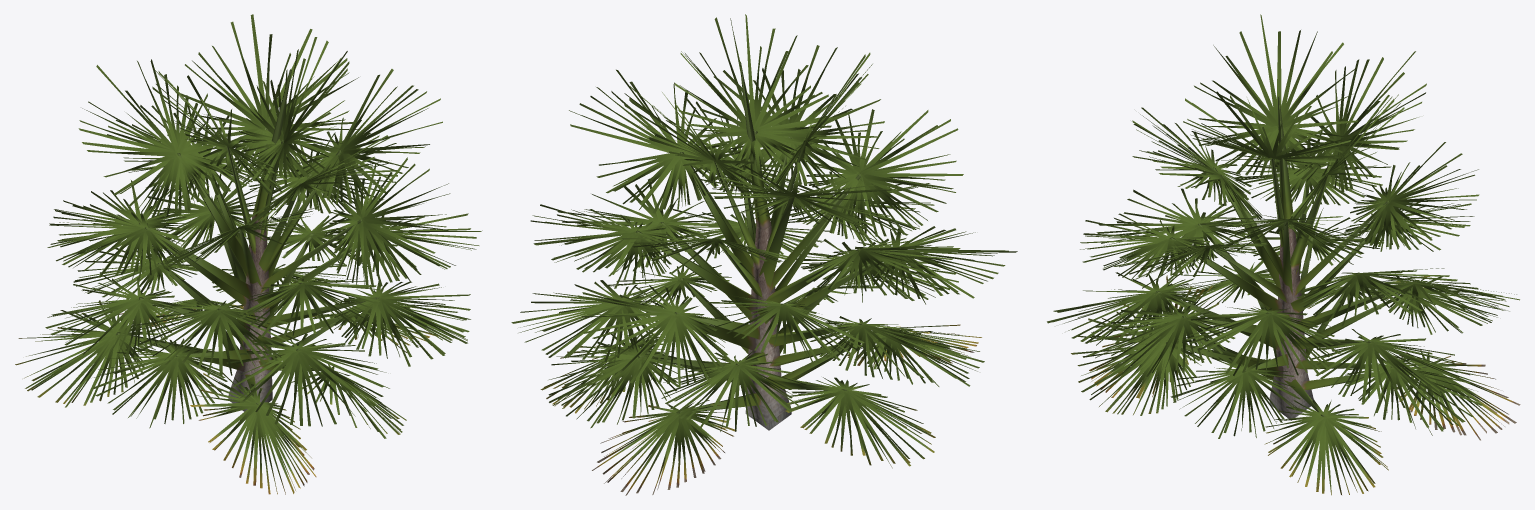
File: Washingtonia filifera HD_Curved mat 0_LOD4.fbx
The picture shows the model from 3 angles, left to right: view 1: azimuth 30°, elevation 25°; view 2: azimuth 150°, elevation 25°; view 3: azimuth 270°, elevation 25°; orthographic projection. The views are drawn at different scales.
Visible parts, largest first — view 1: Washingtonia_filifera_HD; view 2: Washingtonia_filifera_HD; view 3: Washingtonia_filifera_HD.
Part boxes in pixels (box(x1,y1,x2,y2)): Washingtonia_filifera_HD: box(15, 14, 482, 494); Washingtonia_filifera_HD: box(511, 14, 1017, 495); Washingtonia_filifera_HD: box(1047, 14, 1520, 495).
Bounding box in the file's own units: 4.08 × 3.5 × 4.18.
Materials: 6 (6 with a texture image).
